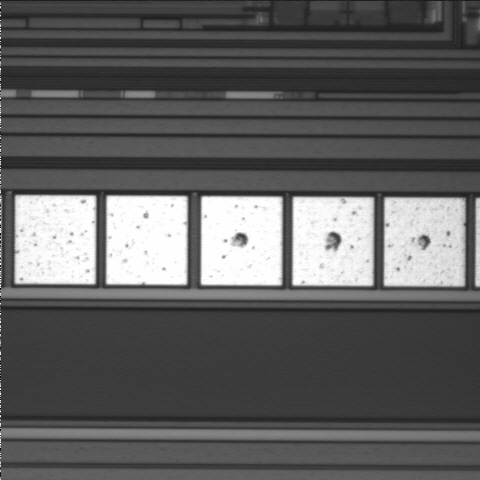pad: (106, 196, 188, 285), (292, 197, 374, 286), (15, 195, 96, 284), (201, 196, 282, 285), (384, 198, 465, 286)
